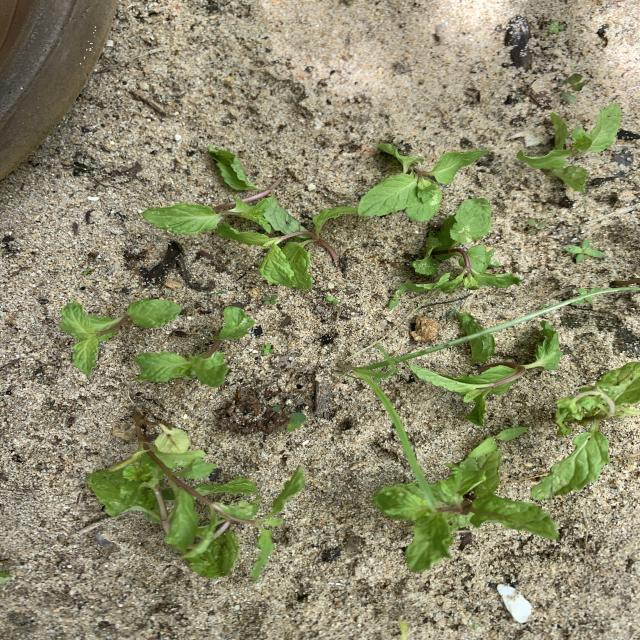crop: (88, 413, 303, 579), (144, 148, 353, 288), (372, 436, 558, 569), (413, 330, 558, 423), (546, 360, 639, 496), (412, 198, 519, 289), (358, 144, 487, 219), (134, 307, 253, 386), (60, 300, 179, 375), (518, 104, 619, 191)
weed: (337, 289, 616, 499), (468, 428, 526, 457), (565, 240, 603, 262), (561, 75, 582, 102), (388, 285, 409, 307), (287, 412, 306, 431), (528, 219, 547, 234), (547, 22, 563, 31), (261, 344, 275, 354), (264, 295, 277, 303), (326, 296, 339, 304)
